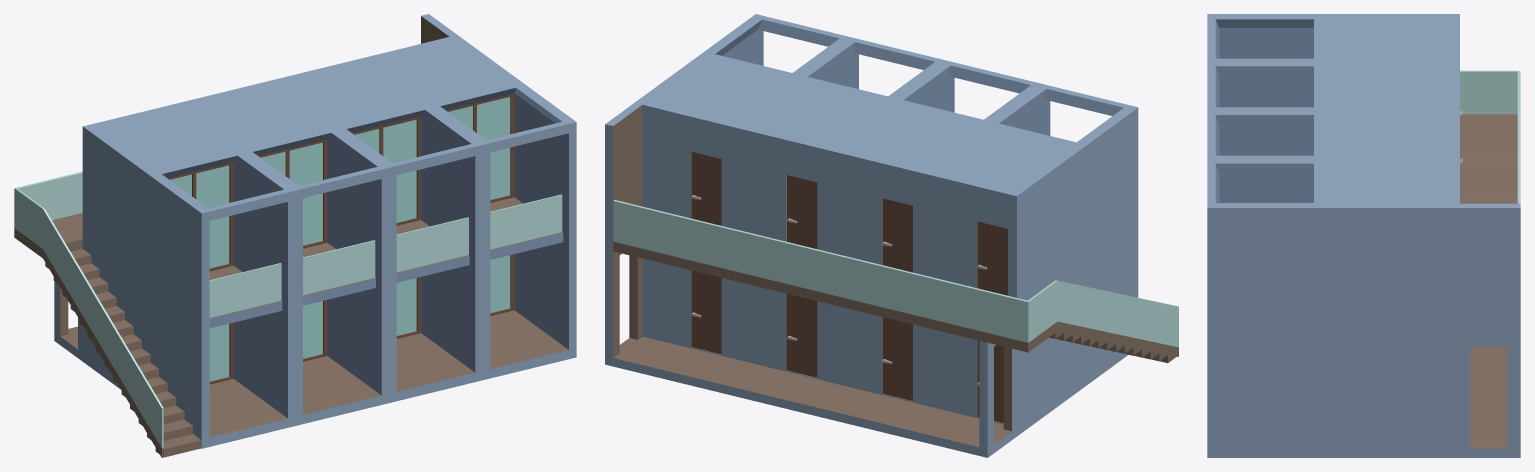
File: Hotel_05.fbx
3 renders of one model, left to right at view 1: azimuth 30°, elevation 25°; view 2: azimuth 150°, elevation 25°; view 3: azimuth 270°, elevation 25°, orthographic. The views are drawn at different scales.
Parts seen in each view (by area): view 1: Hotel_05; view 2: Hotel_05; view 3: Hotel_05.
Part boxes in pixels (x1=…): Hotel_05: x1=14, y1=14, x2=576, y2=457; Hotel_05: x1=605, y1=14, x2=1178, y2=457; Hotel_05: x1=1207, y1=14, x2=1520, y2=457.
Bounding box in the file's own units: 1106 × 601 × 682.
